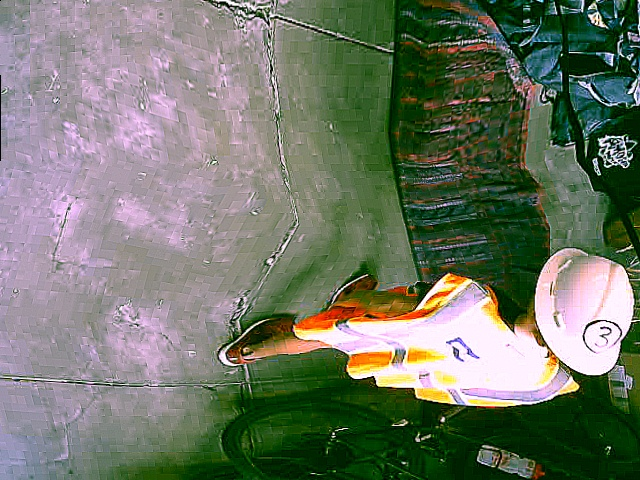three: (580, 319, 625, 353)
